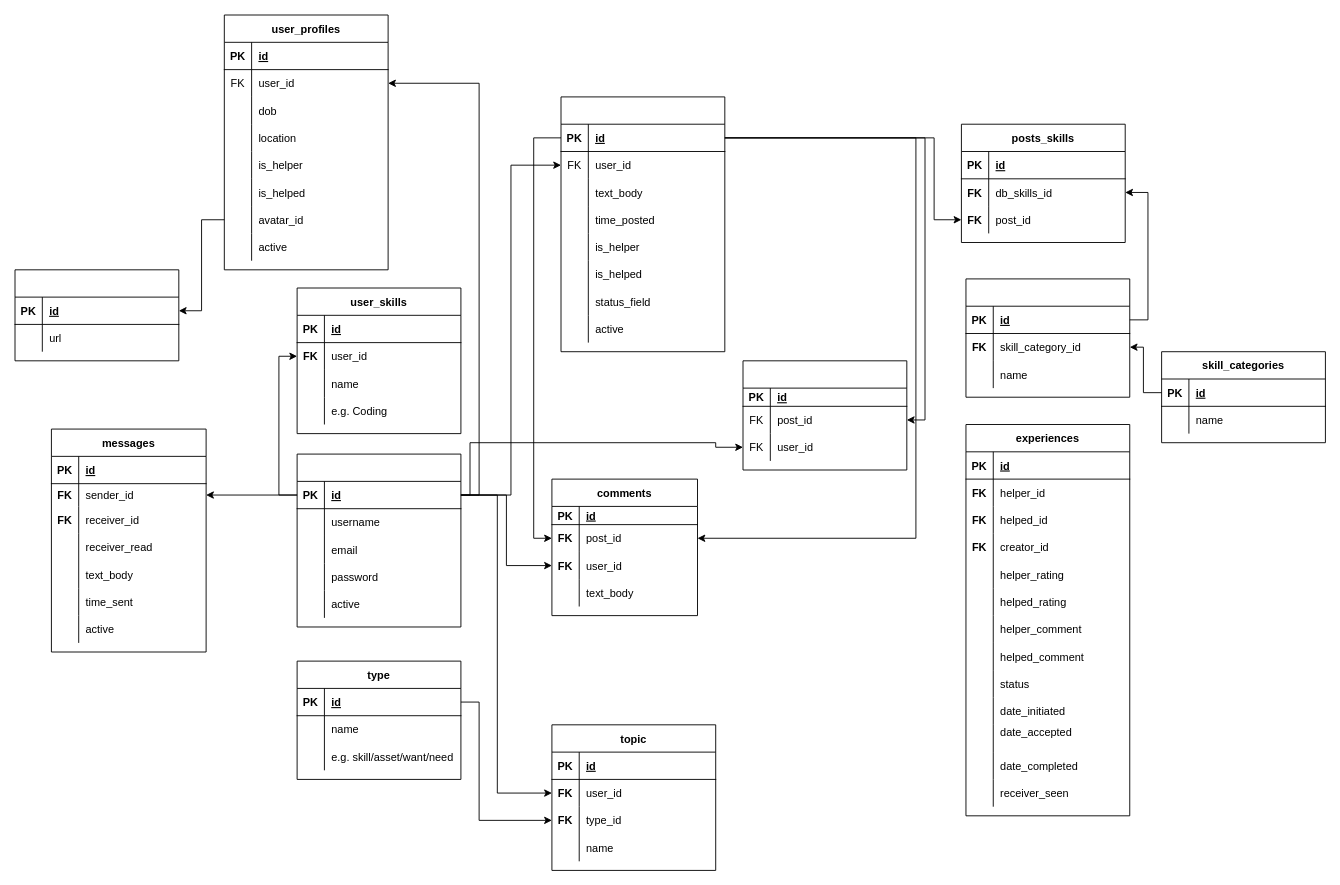
Image size: 1340x885. Some labels were removed from this diagram. Here are the shapes that lost their labels. From the top down, the box of each, then its label:
(560, 96, 725, 352): posts
(14, 269, 179, 361): avatars
(965, 278, 1130, 397): db_skills
(742, 360, 907, 470): likes
(296, 453, 461, 627): users
